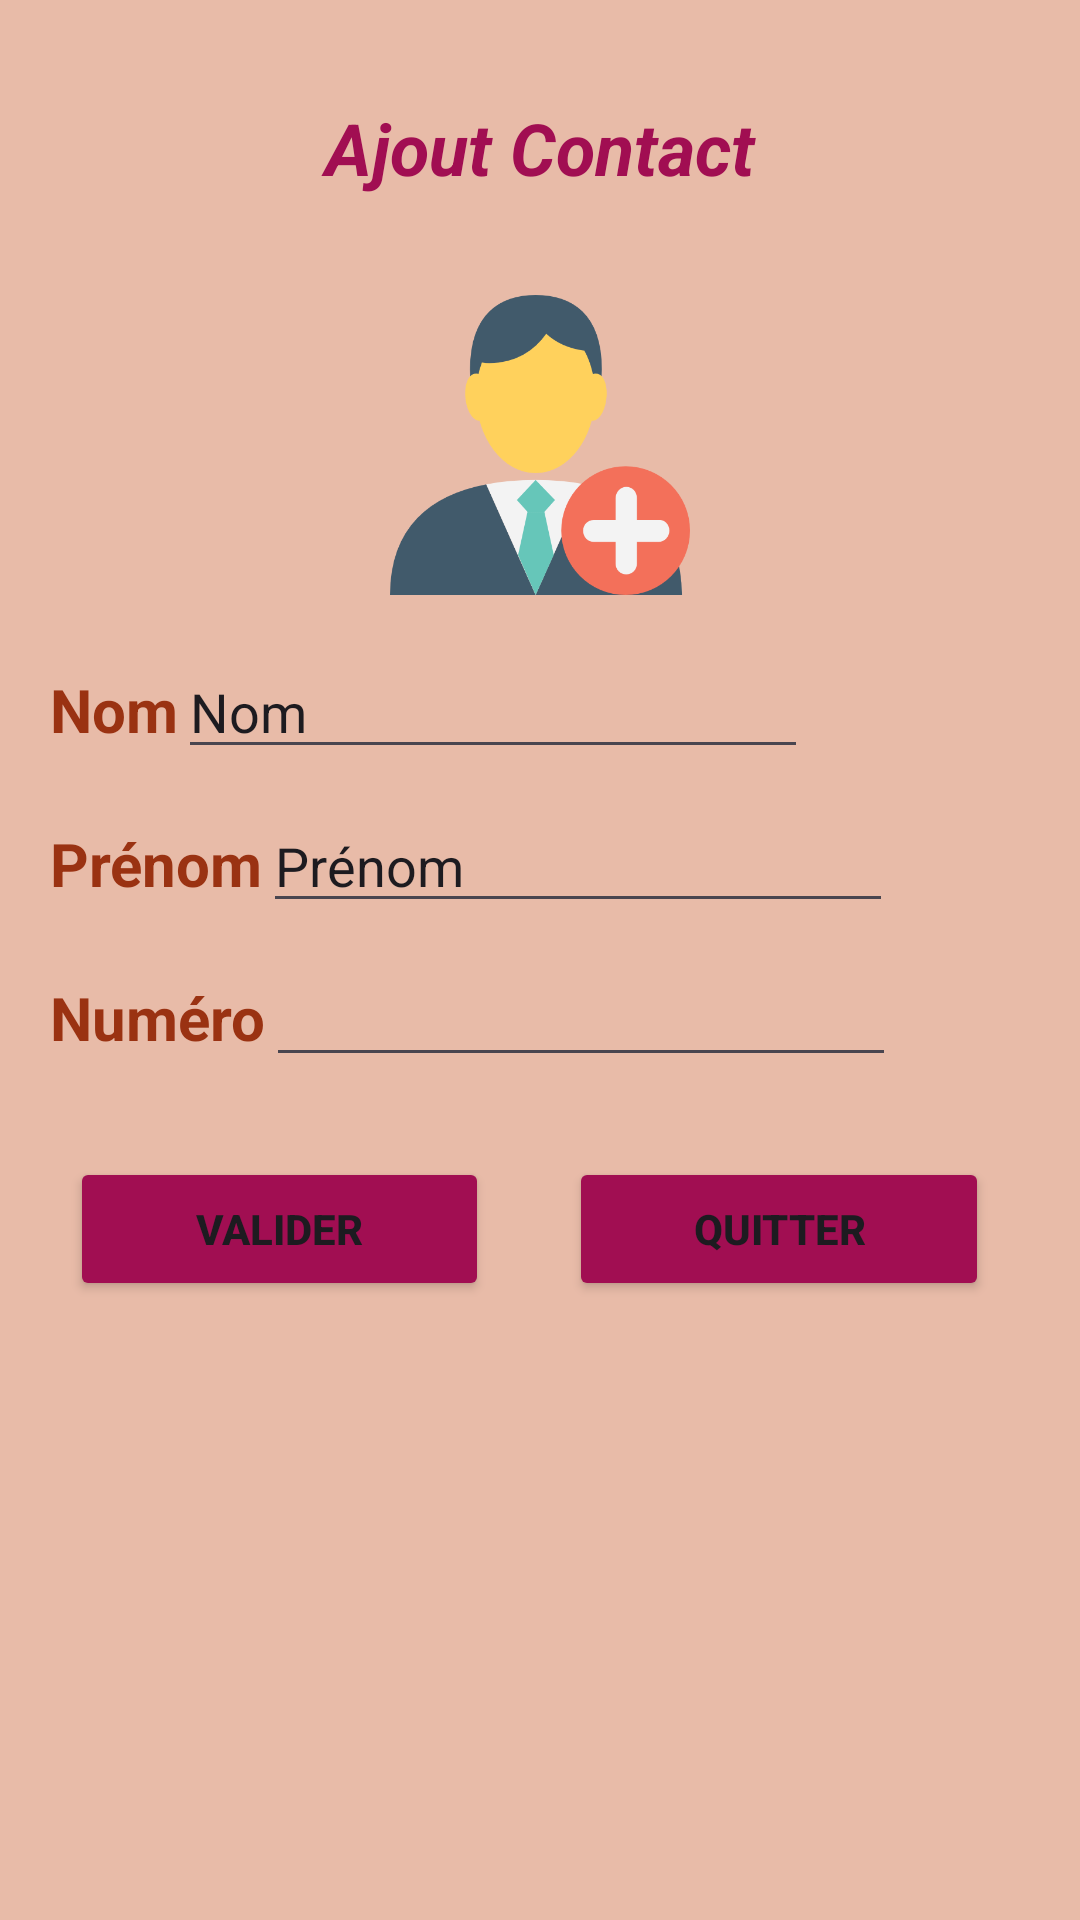

Locate icon controls on the screen. Image size 1080px x 1920px, boxes as [left=x1, top=y1, right=x2, bottom=y2].
Add: [left=390, top=295, right=690, bottom=595]
